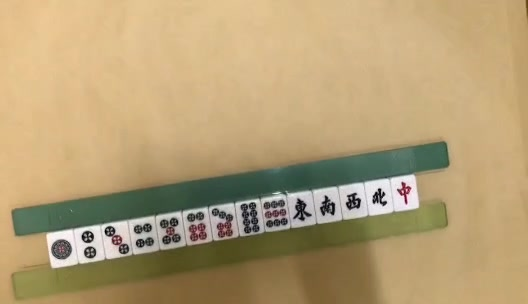1p: (51, 239, 72, 259)
1z: (292, 199, 311, 222)
2p: (81, 230, 97, 260)
2z: (319, 196, 336, 217)
3p: (105, 226, 129, 254)
3z: (345, 194, 362, 210)
4p: (133, 224, 154, 248)
4z: (373, 189, 387, 208)
5p: (160, 218, 181, 245)
6p: (186, 212, 208, 242)
7p: (212, 208, 233, 239)
7z: (398, 183, 412, 205)
8p: (241, 202, 260, 234)
9p: (264, 200, 288, 228)
